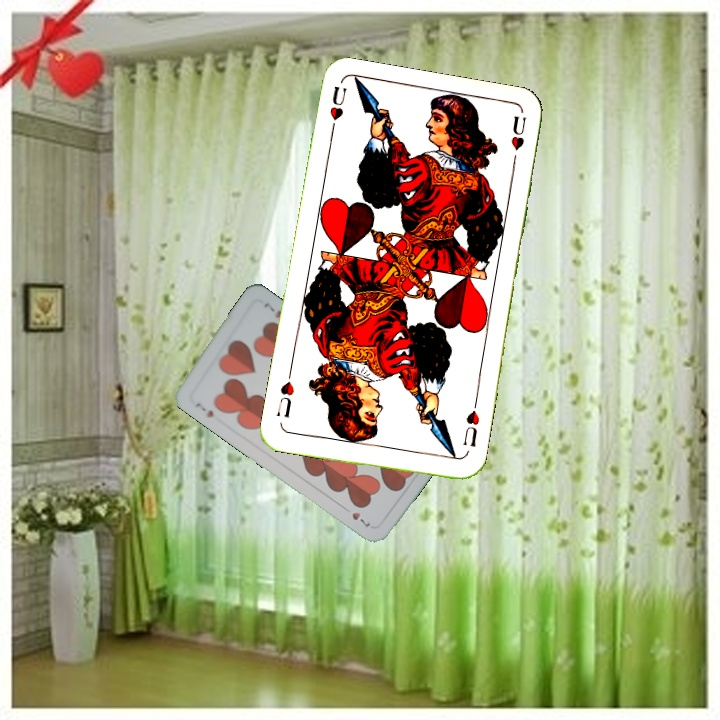H7: (191, 398, 217, 420)
HU: (325, 81, 349, 140), (459, 406, 482, 449)
